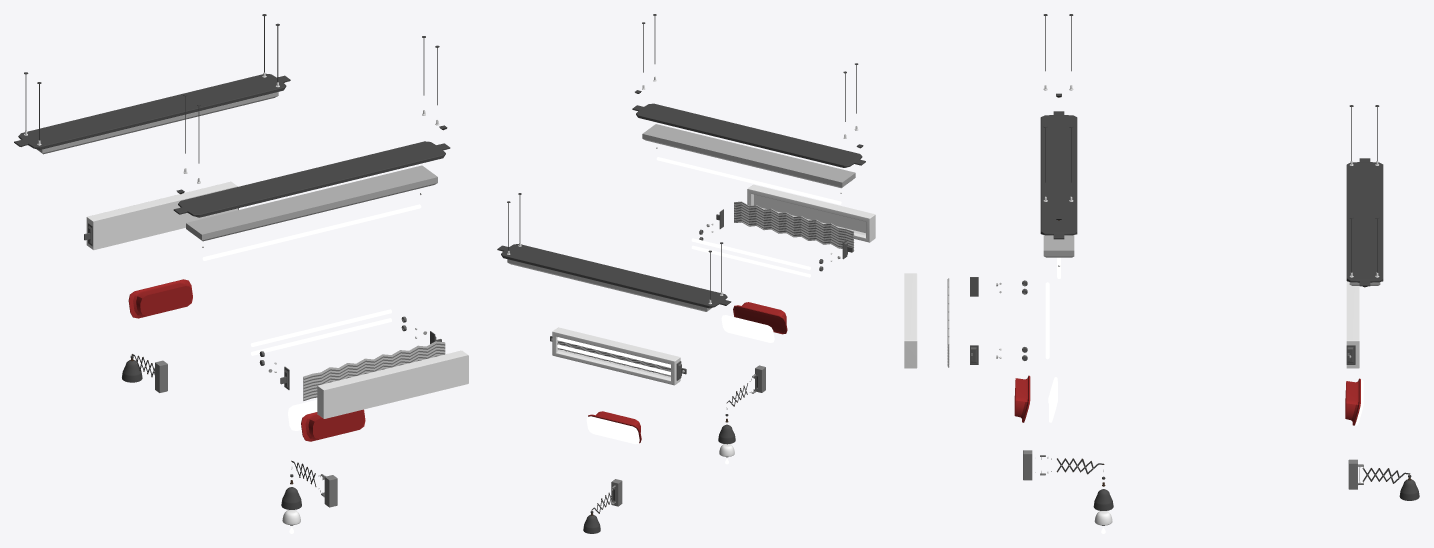
3 renders of one model, left to right at view 1: azimuth 30°, elevation 25°; view 2: azimuth 150°, elevation 25°; view 3: azimuth 270°, elevation 25°, orthographic. The views are drawn at different scales.
Visible parts, largest first — view 1: BasesSustentacao (×2), BaseLampadaParede (×2), Base (×2), MetalReflexivo, Assets:polySurface13, polySurface13, LampadaExtensa, LampadaExtensa2, LampadaExtensa3, polySurface14; view 2: BasesSustentacao (×2), BaseLampadaParede (×2), Base (×2), MetalReflexivo (×2), polySurface13, LampadaExtensa3 (×2), LampadaExtensa2 (×2), polySurface14, Assets:polySurface14, LampadaExtensa; view 3: BasesSustentacao (×2), BaseLampadaParede (×2), Base, polySurface13, Assets:polySurface13.
Part boxes in pixels (x1,y1,x2,y2): BasesSustentacao (×2): (14, 73, 450, 217); BaseLampadaParede (×2): (86, 181, 468, 418); Base (×2): (37, 92, 437, 241); MetalReflexivo: (303, 341, 445, 400); Assets:polySurface13: (128, 279, 192, 318); polySurface13: (301, 409, 365, 441); LampadaExtensa: (202, 204, 421, 260); LampadaExtensa2: (250, 309, 391, 346); LampadaExtensa3: (251, 318, 391, 355); polySurface14: (288, 400, 317, 430); BasesSustentacao (×2): (497, 103, 865, 308); BaseLampadaParede (×2): (552, 184, 875, 385); Base (×2): (507, 124, 855, 311); MetalReflexivo (×2): (558, 201, 854, 376); polySurface13: (733, 302, 787, 334); LampadaExtensa3 (×2): (557, 245, 810, 375); LampadaExtensa2 (×2): (557, 238, 810, 367); polySurface14: (721, 315, 774, 342); Assets:polySurface14: (586, 416, 639, 444); LampadaExtensa: (656, 157, 841, 204); BasesSustentacao (×2): (1040, 111, 1383, 286); BaseLampadaParede (×2): (904, 273, 1359, 368); Base: (1043, 235, 1074, 257); polySurface13: (1014, 375, 1030, 422); Assets:polySurface13: (1345, 378, 1360, 425).
Bounding box in the file's own units: 34.08 × 57.82 × 58.55.
